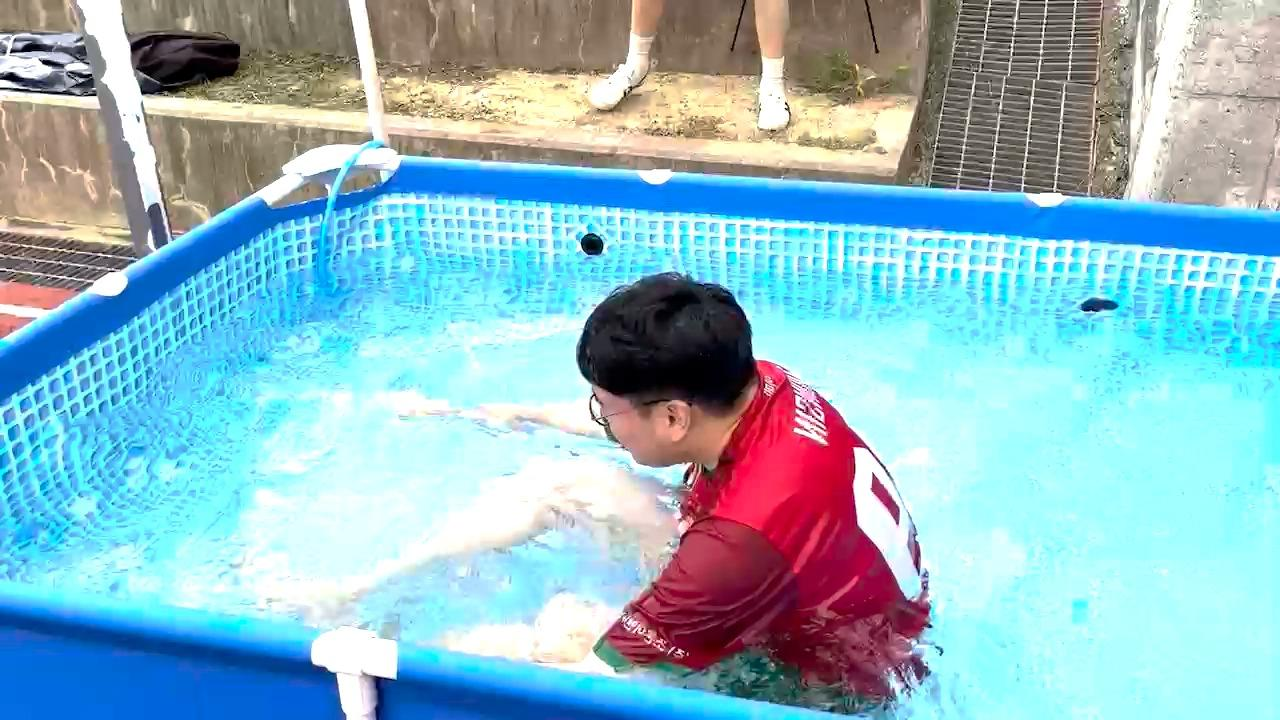Swimming: (326, 219, 1021, 710)
